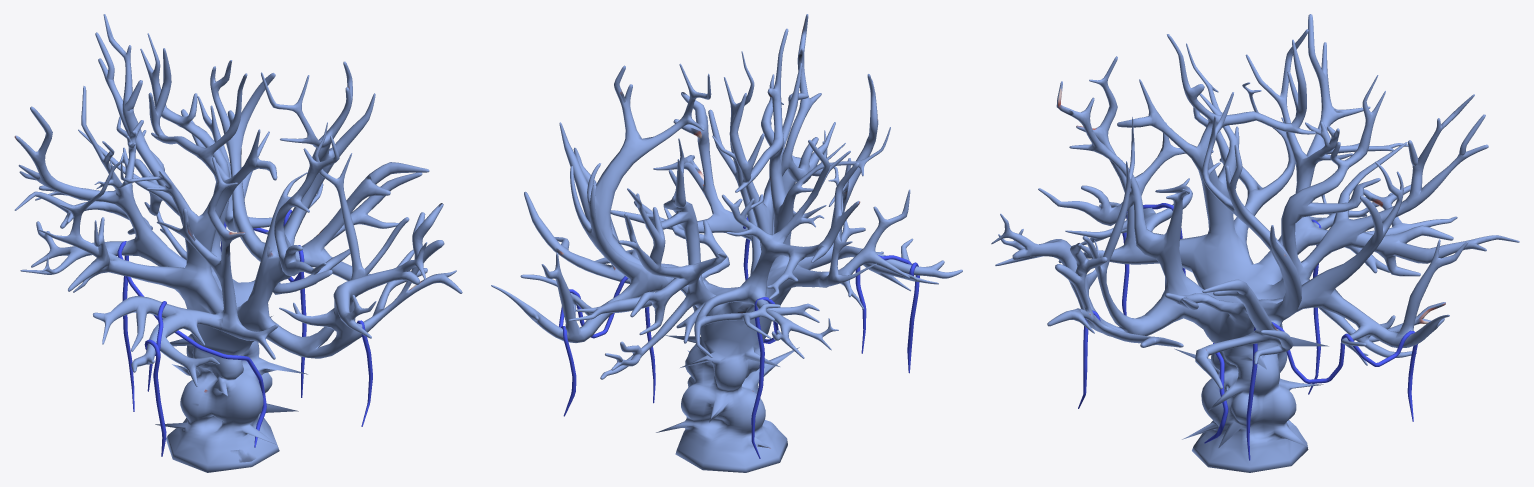
File: tree_5_w_vines.fbx
3 renders of one model, left to right at view 1: azimuth 30°, elevation 25°; view 2: azimuth 150°, elevation 25°; view 3: azimuth 270°, elevation 25°, orthographic. The views are drawn at different scales.
Parts seen in each view (by area): view 1: tree 5.001; view 2: tree 5.001; view 3: tree 5.001.
Boxes of the visible parts, bbox=[...] form: tree 5.001: bbox=[14, 14, 462, 472]; tree 5.001: bbox=[491, 14, 962, 472]; tree 5.001: bbox=[991, 14, 1519, 472].
Size of the model in its own units: 819 by 851 by 991.
